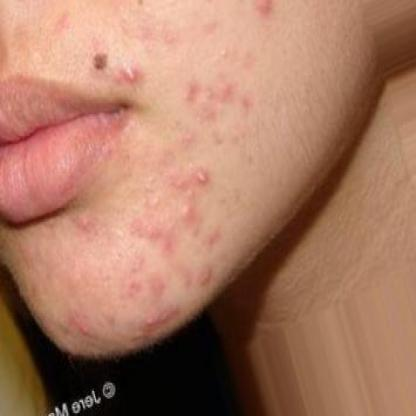Acne: (117, 60, 142, 94), (178, 198, 204, 224), (192, 164, 214, 192), (77, 212, 96, 238)
